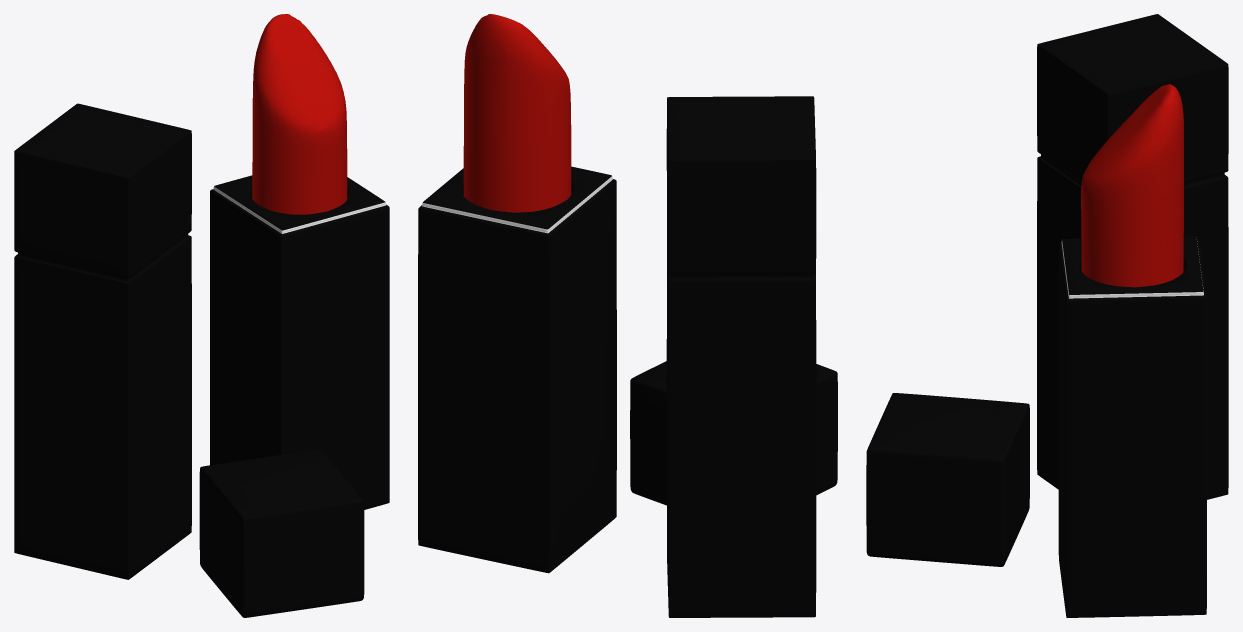
Rendered from Lipstick.fbx.
The picture shows the model from 3 angles, left to right: view 1: azimuth 30°, elevation 25°; view 2: azimuth 150°, elevation 25°; view 3: azimuth 270°, elevation 25°; orthographic projection. The views are drawn at different scales.
Parts seen in each view (by area): view 1: Cube, Cube.002, Cube.004, Cube.003; view 2: Cube, Cube.002, Cube.003, Cube.004; view 3: Cube.002, Cube, Cube.004, Cube.003.
Part boxes in pixels (<box>): Cube: <box>14,103,191,579</box>; Cube.002: <box>210,175,389,509</box>; Cube.004: <box>199,449,364,617</box>; Cube.003: <box>252,14,347,214</box>; Cube: <box>666,96,816,617</box>; Cube.002: <box>418,166,616,573</box>; Cube.003: <box>463,14,571,212</box>; Cube.004: <box>630,361,837,505</box>; Cube.002: <box>1058,236,1206,617</box>; Cube: <box>1037,14,1228,499</box>; Cube.004: <box>866,393,1029,566</box>; Cube.003: <box>1081,84,1183,287</box>.
Size of what is drawn, in the model's own units: 80.98 by 109 by 71.24.
